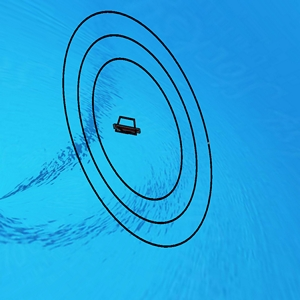circle: (48, 7, 246, 248)
submarine: (114, 116, 149, 141)
